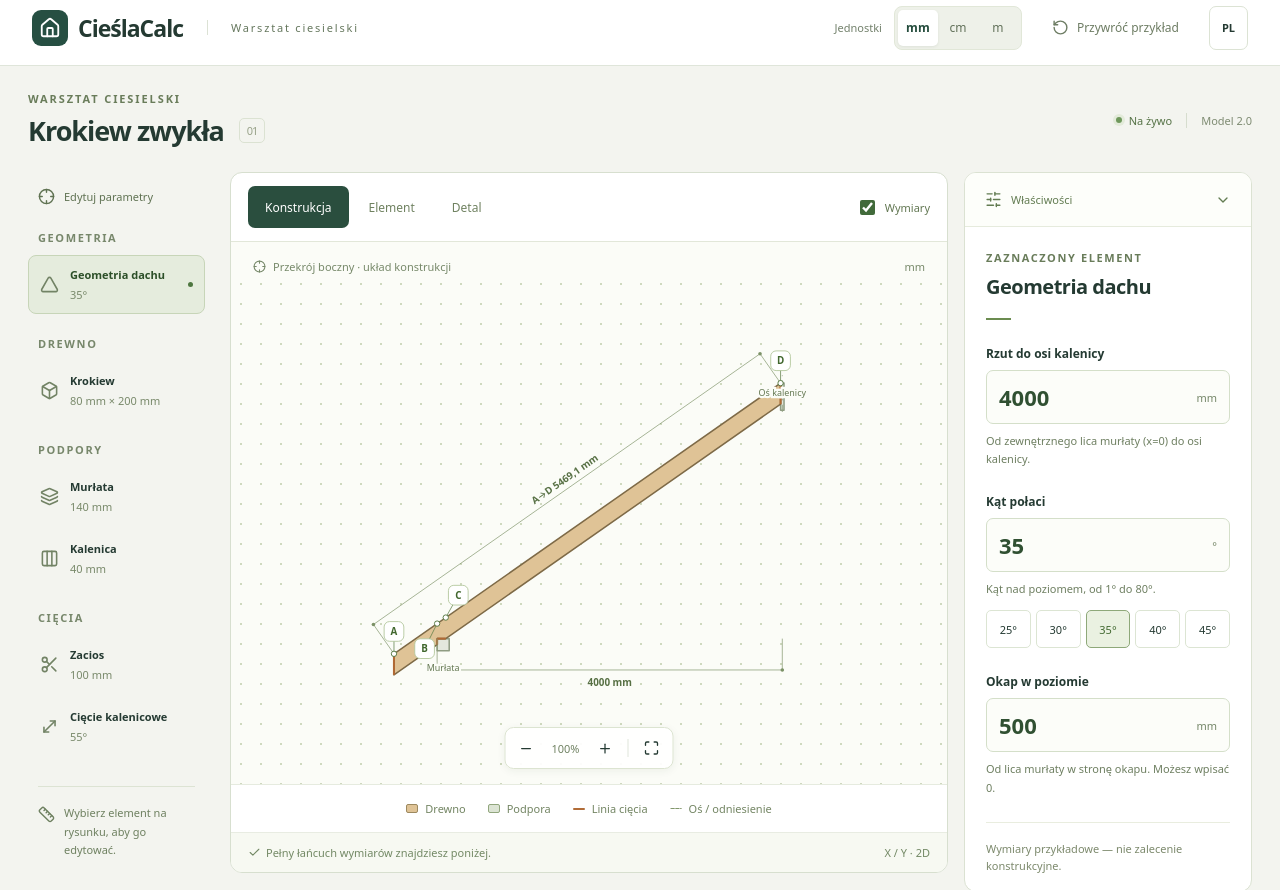
Scenario: parametric workbench › keeps physical geometry unchanged when switching display units
Replace the text in the field labelled "Rzut do osi kalenicy" with "1000" at (1092, 397), box [987,371,1196,423]
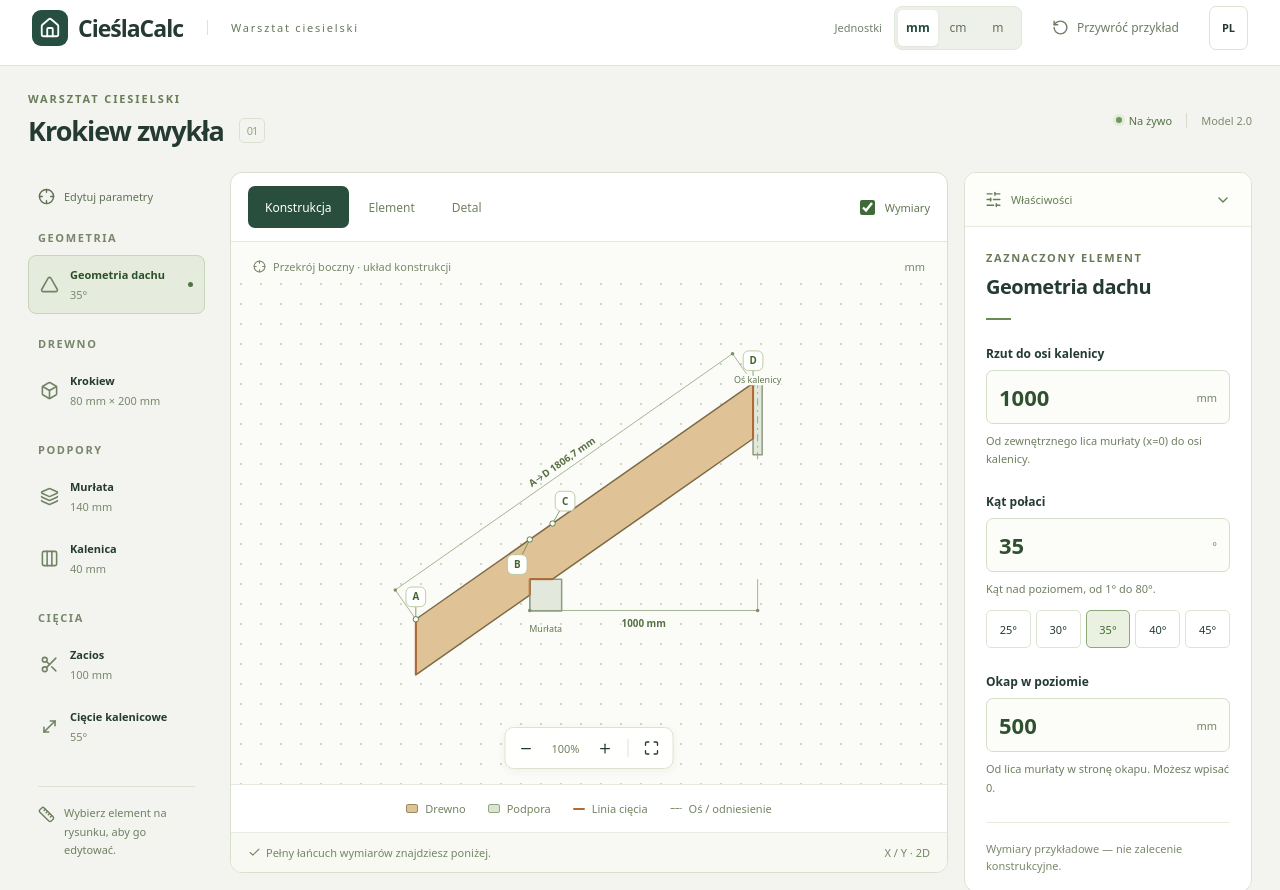
Click the button "30°" at (1058, 629), box [1036,610,1081,648]
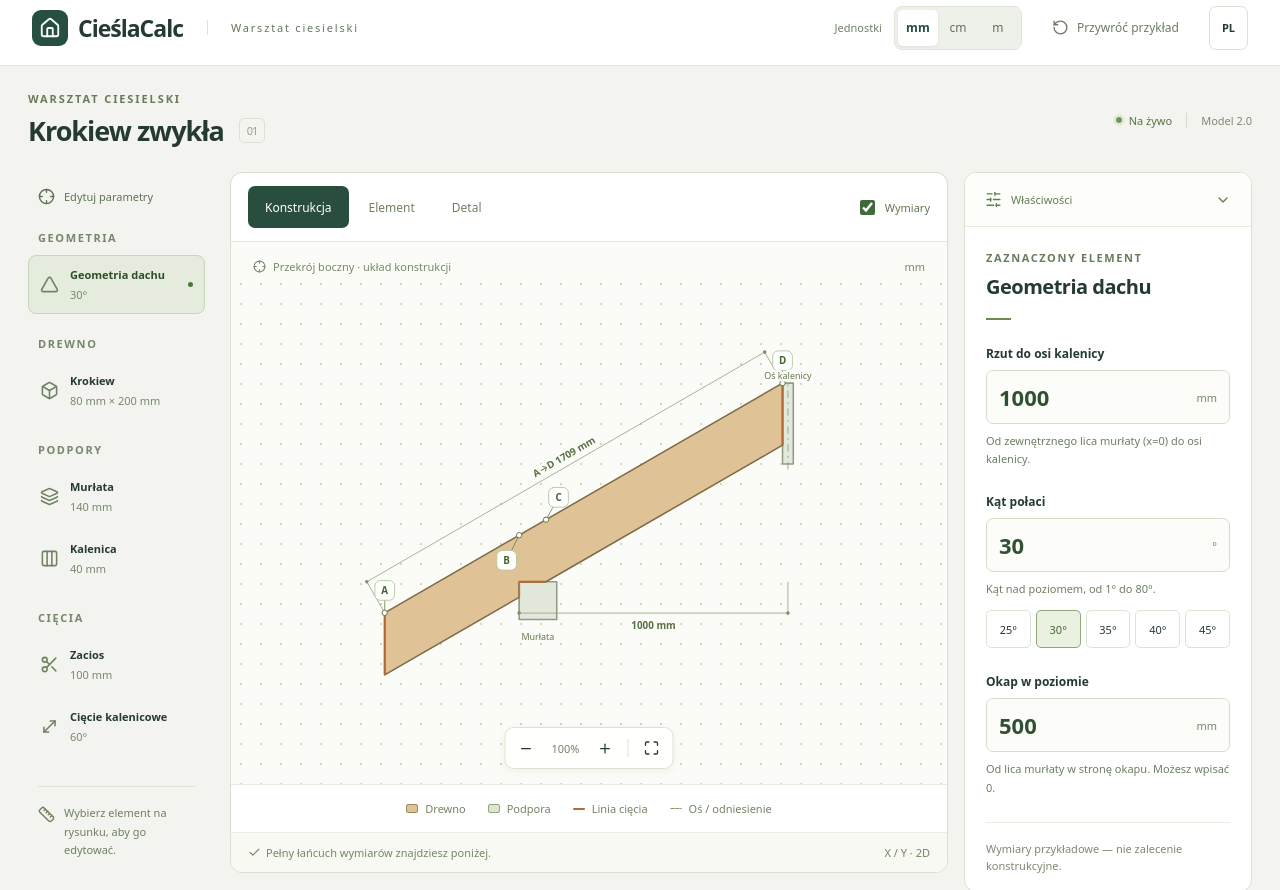
Click the button "m" at (998, 28), box [978,10,1018,46]
(page scrolled)
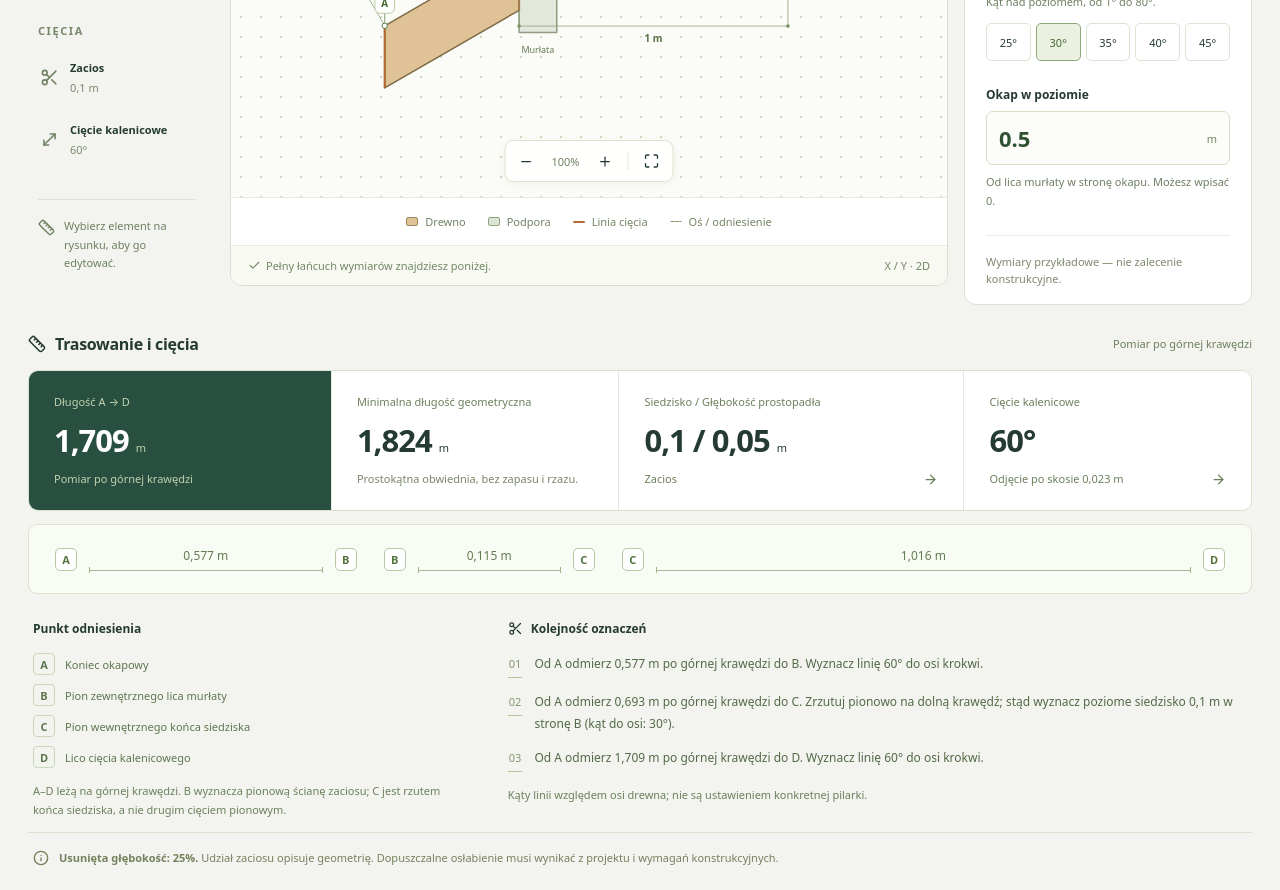
expect the element with test id "total-length" reads "1,709m": met, box [54,419,146,461]
